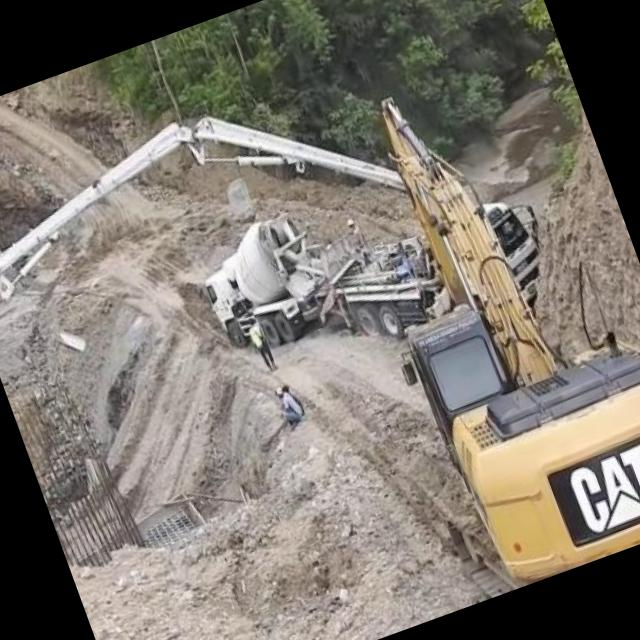Excavator: (317, 33, 640, 597)
